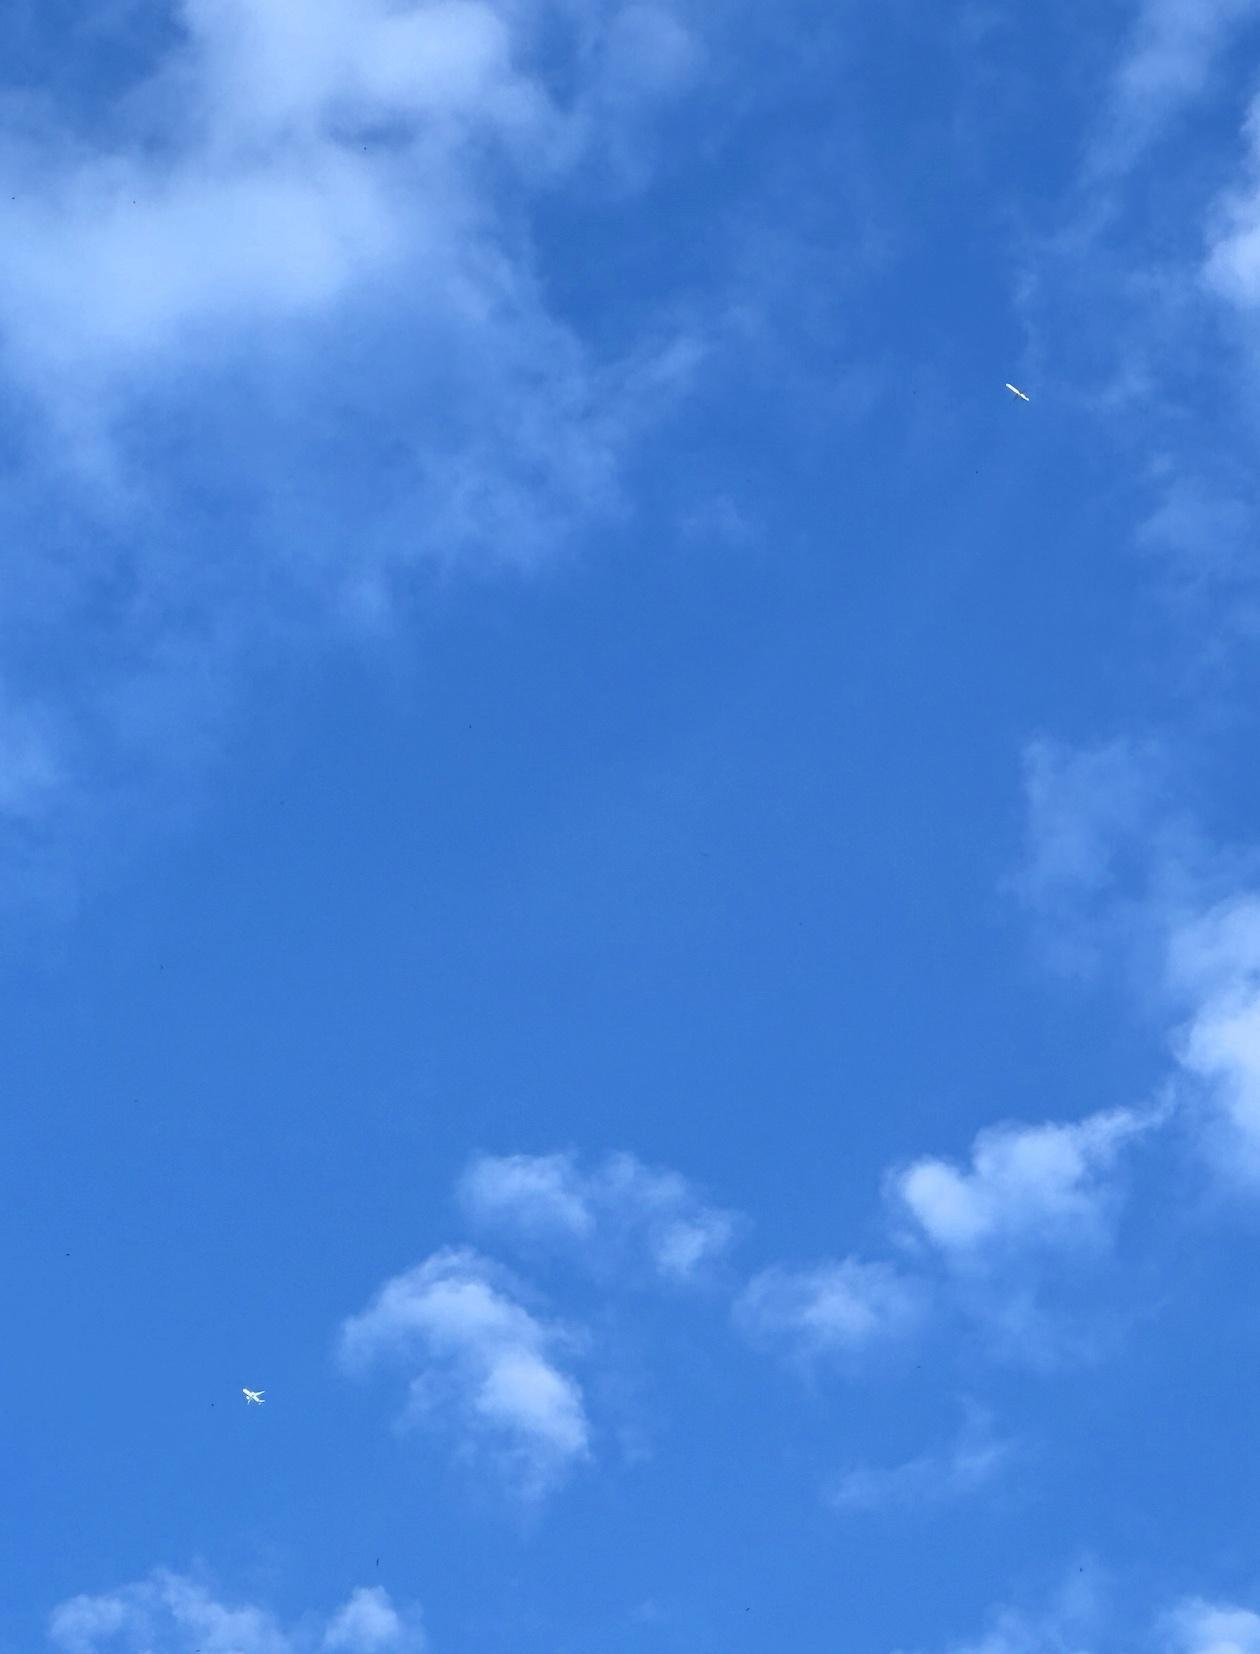Plane: (979, 355, 1047, 429), (228, 1367, 279, 1425)
